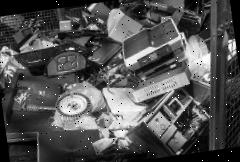electronic: (126, 83, 216, 161), (6, 31, 100, 92), (114, 19, 198, 80), (101, 0, 160, 65)
